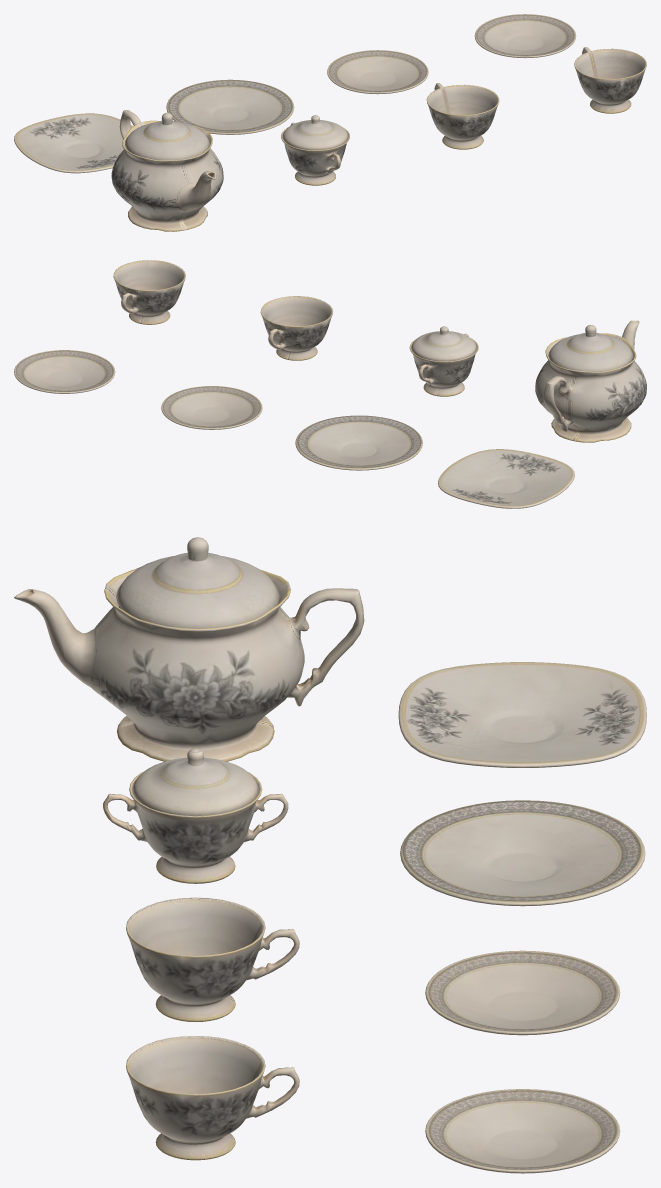
The model's file is tea_set_01.glb.
3 renders of one model, top to bottom at view 1: azimuth 30°, elevation 25°; view 2: azimuth 150°, elevation 25°; view 3: azimuth 270°, elevation 25°, orthographic. The views are drawn at different scales.
Parts seen in each view (by area): view 1: tea_set_01_teapot_01, tea_set_01_plate_large_circular_03, tea_set_01_plate_large_square_01, tea_set_01_cup_small_01, tea_set_01_cup_small_02, tea_set_01_saucer_circular_03, tea_set_01_saucer_circular_04, tea_set_01_teapot_01_lid, tea_set_01_sugar_cup_01, tea_set_01_sugar_cup_01_lid; view 2: tea_set_01_teapot_01, tea_set_01_plate_large_square_01, tea_set_01_plate_large_circular_03, tea_set_01_cup_small_01, tea_set_01_cup_small_02, tea_set_01_saucer_circular_04, tea_set_01_saucer_circular_03, tea_set_01_teapot_01_lid, tea_set_01_sugar_cup_01, tea_set_01_sugar_cup_01_lid; view 3: tea_set_01_teapot_01, tea_set_01_plate_large_square_01, tea_set_01_plate_large_circular_03, tea_set_01_cup_small_01, tea_set_01_cup_small_02, tea_set_01_saucer_circular_03, tea_set_01_saucer_circular_04, tea_set_01_teapot_01_lid, tea_set_01_sugar_cup_01, tea_set_01_sugar_cup_01_lid.
Boxes of the visible parts, bbox=[...] form: tea_set_01_teapot_01: bbox=[111, 110, 223, 231]; tea_set_01_plate_large_circular_03: bbox=[166, 79, 294, 134]; tea_set_01_plate_large_square_01: bbox=[14, 113, 133, 173]; tea_set_01_cup_small_01: bbox=[426, 83, 499, 149]; tea_set_01_cup_small_02: bbox=[574, 47, 646, 113]; tea_set_01_saucer_circular_03: bbox=[474, 14, 576, 58]; tea_set_01_saucer_circular_04: bbox=[327, 50, 428, 94]; tea_set_01_teapot_01_lid: bbox=[125, 112, 209, 160]; tea_set_01_sugar_cup_01: bbox=[281, 122, 349, 185]; tea_set_01_sugar_cup_01_lid: bbox=[282, 115, 348, 150]; tea_set_01_teapot_01: bbox=[535, 320, 646, 442]; tea_set_01_plate_large_square_01: bbox=[438, 449, 574, 508]; tea_set_01_plate_large_circular_03: bbox=[295, 415, 422, 470]; tea_set_01_cup_small_01: bbox=[260, 296, 332, 360]; tea_set_01_cup_small_02: bbox=[113, 260, 185, 324]; tea_set_01_saucer_circular_04: bbox=[161, 386, 262, 429]; tea_set_01_saucer_circular_03: bbox=[14, 350, 115, 393]; tea_set_01_teapot_01_lid: bbox=[548, 325, 633, 371]; tea_set_01_sugar_cup_01: bbox=[409, 333, 478, 396]; tea_set_01_sugar_cup_01_lid: bbox=[411, 326, 477, 361]; tea_set_01_teapot_01: bbox=[14, 568, 364, 761]; tea_set_01_plate_large_square_01: bbox=[398, 662, 646, 767]; tea_set_01_plate_large_circular_03: bbox=[400, 800, 645, 906]; tea_set_01_cup_small_01: bbox=[126, 897, 299, 1021]; tea_set_01_cup_small_02: bbox=[126, 1036, 299, 1160]; tea_set_01_saucer_circular_03: bbox=[425, 1089, 620, 1173]; tea_set_01_saucer_circular_04: bbox=[425, 950, 620, 1035]; tea_set_01_teapot_01_lid: bbox=[116, 537, 279, 628]; tea_set_01_sugar_cup_01: bbox=[103, 771, 288, 883]; tea_set_01_sugar_cup_01_lid: bbox=[131, 748, 259, 816].
Bounding box in the file's own units: 0.9185 × 0.1649 × 0.4839.
Materials: 1 (1 with a texture image).
